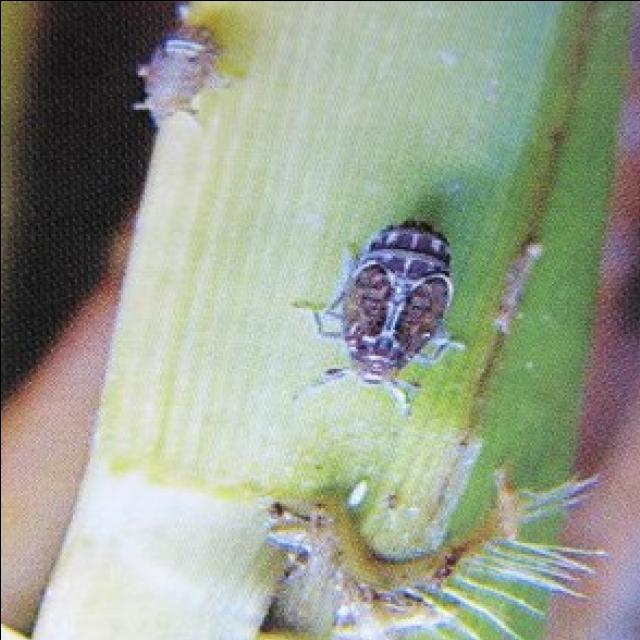brown plant hopper: (313, 226, 451, 385), (133, 20, 224, 126)
